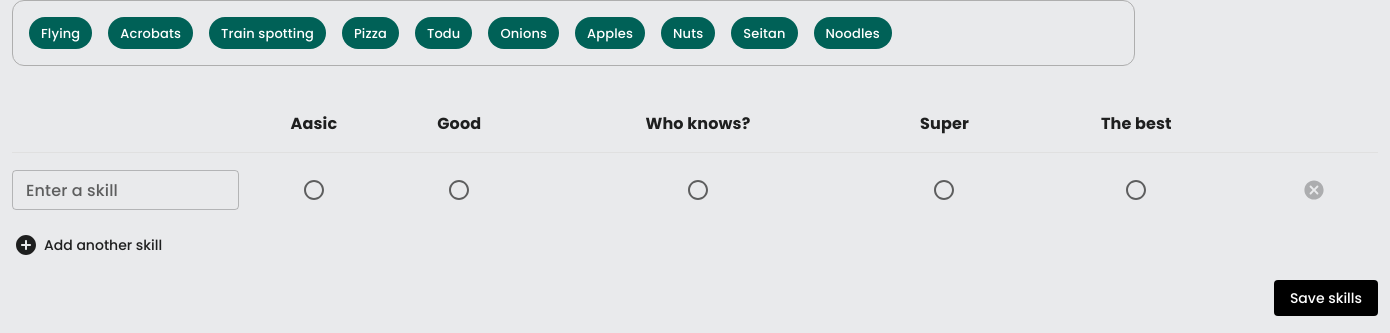
SkillsAddForm › Sucessful data › Adding suggested skills to field
Expected: the text "Aasic" is shown, [290,112,337,135]
Expected: the dropdown with test id "input_skillname-0" is empty, [18,176,200,204]
Click the button "Acrobats".
click(151, 33)  # box [108,17,193,49]
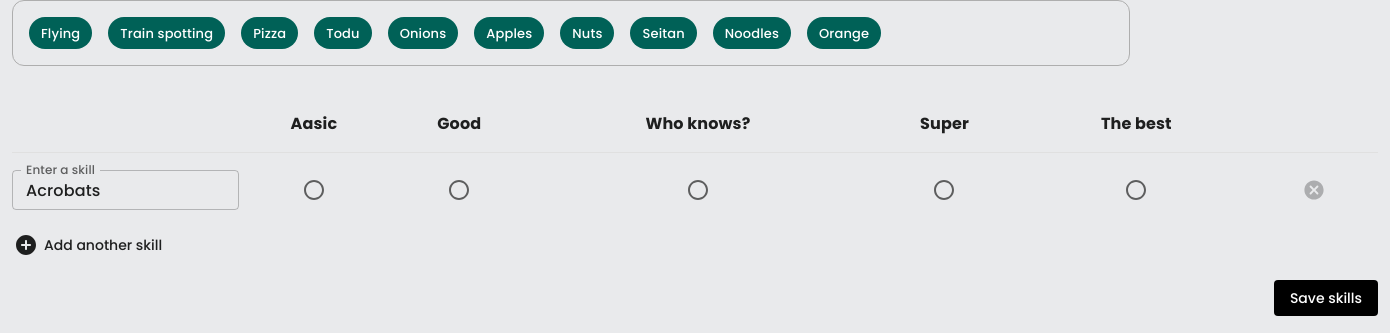
Now the dropdown with test id "input_skillname-0" holds "Acrobats", box [18,176,200,204]
